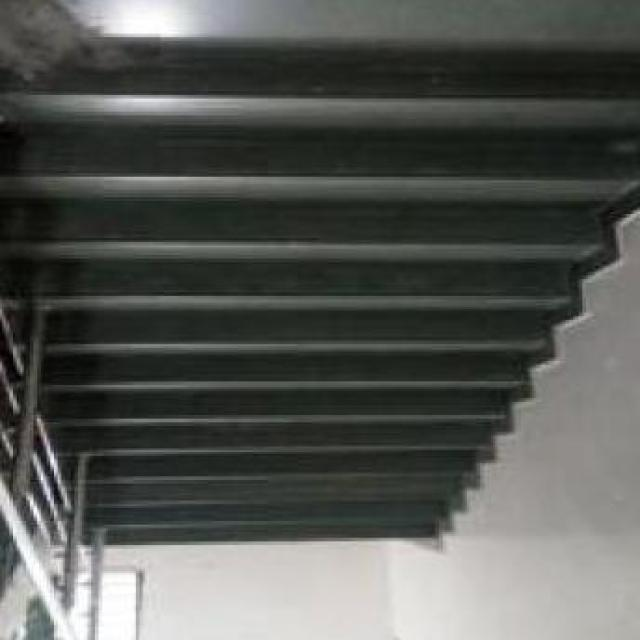Stairs: (15, 39, 595, 552)
